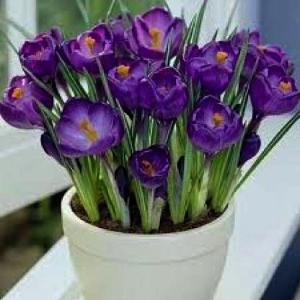Saffron: (53, 96, 124, 157), (125, 8, 188, 69), (0, 75, 59, 133), (190, 95, 242, 160), (140, 65, 188, 135), (182, 38, 236, 99), (62, 23, 117, 82), (17, 23, 66, 82), (250, 65, 300, 121), (130, 147, 173, 190)
